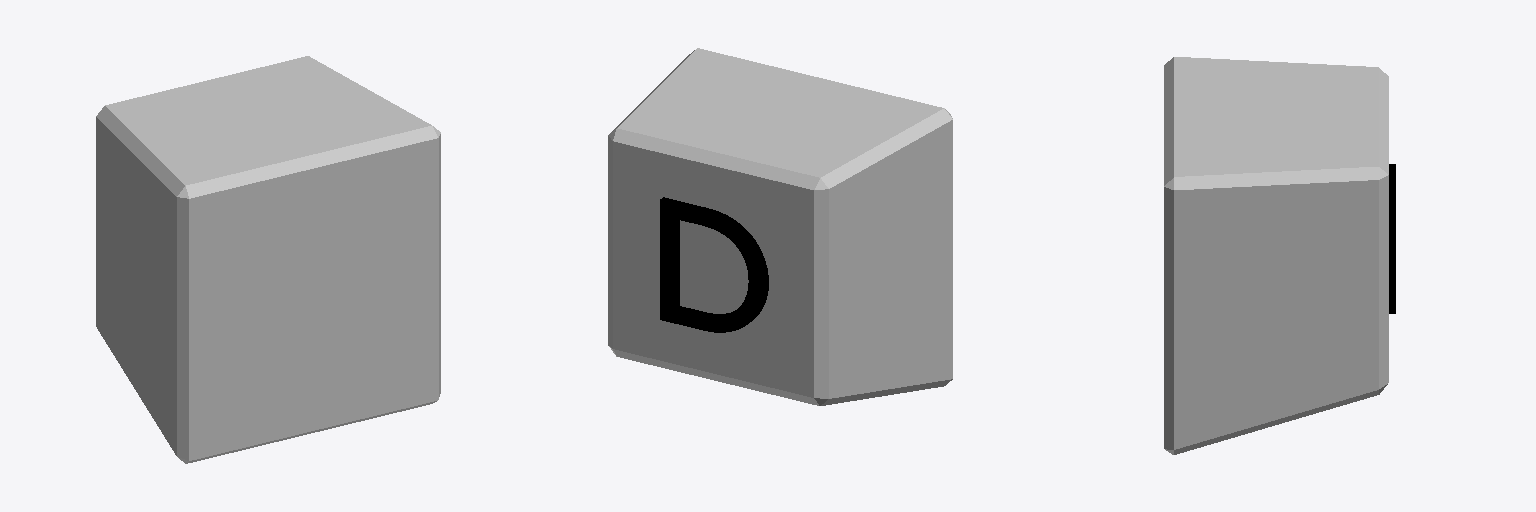
The model's file is D_key.obj.
3 renders of one model, left to right at view 1: azimuth 30°, elevation 25°; view 2: azimuth 150°, elevation 25°; view 3: azimuth 270°, elevation 25°, orthographic.
Visible parts, largest first — view 1: Cube.003; view 2: Cube.003, Text.003; view 3: Cube.003, Text.003.
Part boxes in pixels (bbox=[...]): Cube.003: bbox=[96, 56, 440, 463]; Cube.003: bbox=[608, 48, 952, 405]; Text.003: bbox=[660, 197, 768, 332]; Cube.003: bbox=[1164, 57, 1388, 454]; Text.003: bbox=[1389, 164, 1395, 313].
Bounding box in the file's own units: 0.9074 × 0.9126 × 0.6894.